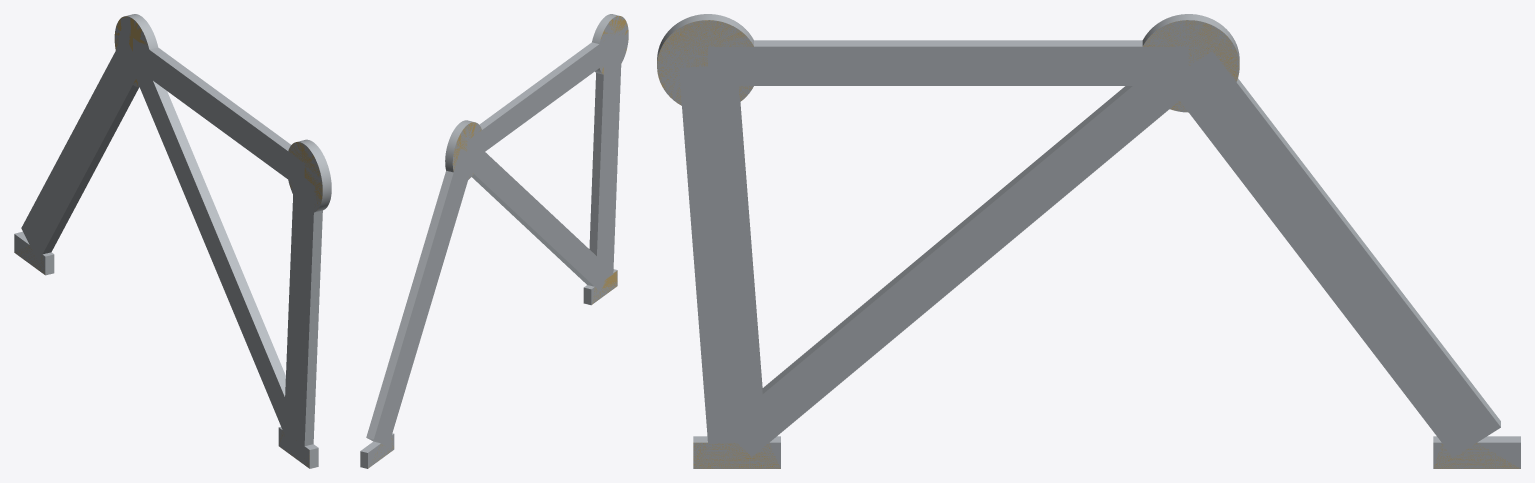
The model's file is step_03.glb.
3 renders of one model, left to right at view 1: azimuth 30°, elevation 25°; view 2: azimuth 150°, elevation 25°; view 3: azimuth 270°, elevation 25°, orthographic. The views are drawn at different scales.
Visible parts, largest first — view 1: part__leg, added__leg; view 2: part__leg, added__leg; view 3: part__leg, added__leg.
Part boxes in pixels (x1,y1,x2,y2): part__leg: [14, 14, 331, 468]; added__leg: [14, 16, 322, 467]; part__leg: [360, 14, 628, 468]; added__leg: [368, 16, 628, 468]; part__leg: [657, 14, 1520, 468]; added__leg: [657, 20, 1519, 468].
Bounding box in the file's own units: 10 × 340 × 593.
